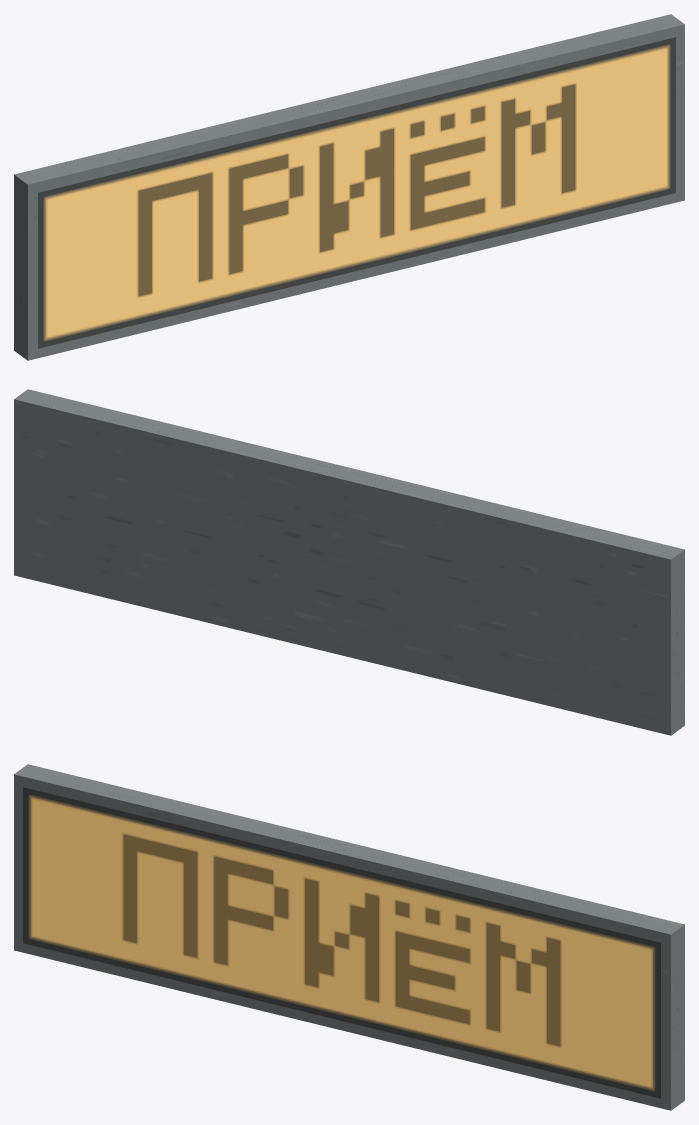
Rendered from ReceptionSign.fbx.
The picture shows the model from 3 angles, top to bottom: view 1: azimuth 30°, elevation 25°; view 2: azimuth 150°, elevation 25°; view 3: azimuth 330°, elevation 25°; orthographic projection.
Visible parts, largest first — view 1: ReceptionSign; view 2: ReceptionSign; view 3: ReceptionSign.
Boxes of the visible parts, x1,y1,x2,y2 form: ReceptionSign: (14,14,684,360); ReceptionSign: (14,389,684,735); ReceptionSign: (14,764,684,1110).
Bounding box in the file's own units: 410 × 105 × 15.6.
